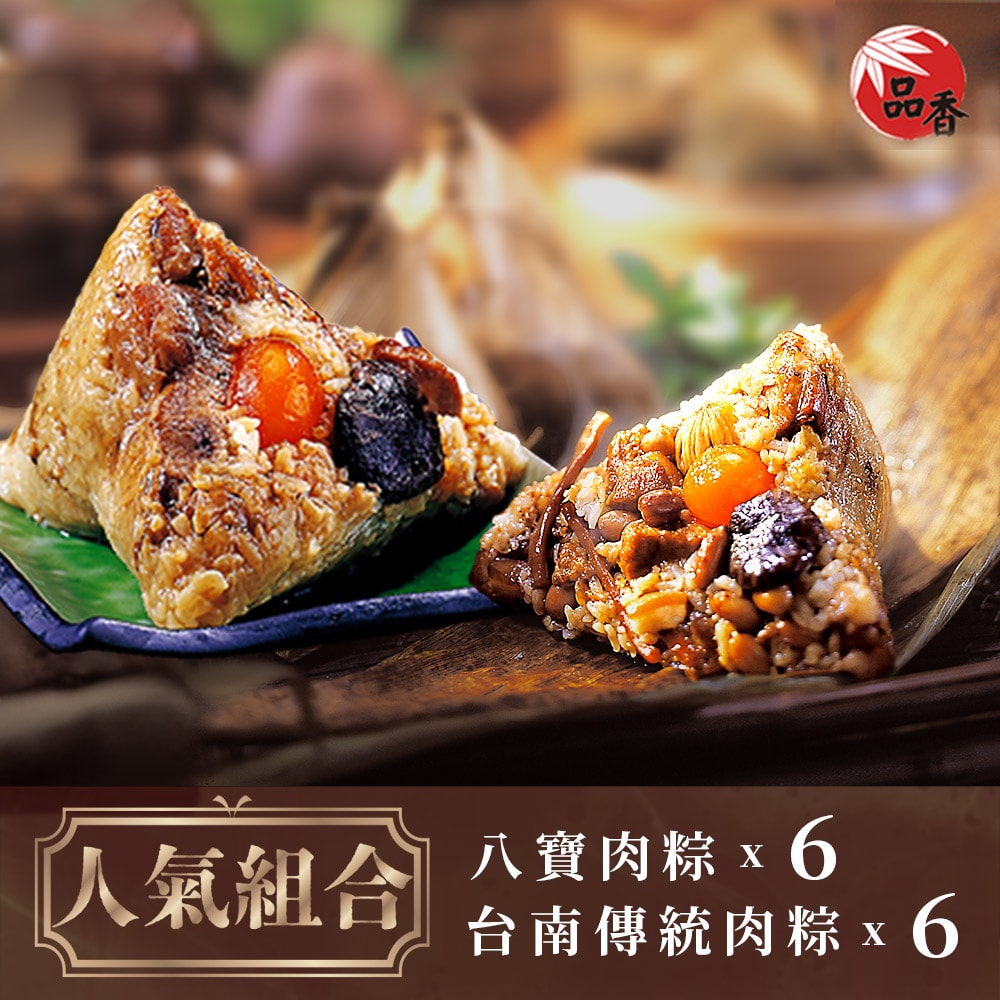zongzi: (0, 188, 526, 628), (473, 326, 892, 676)
